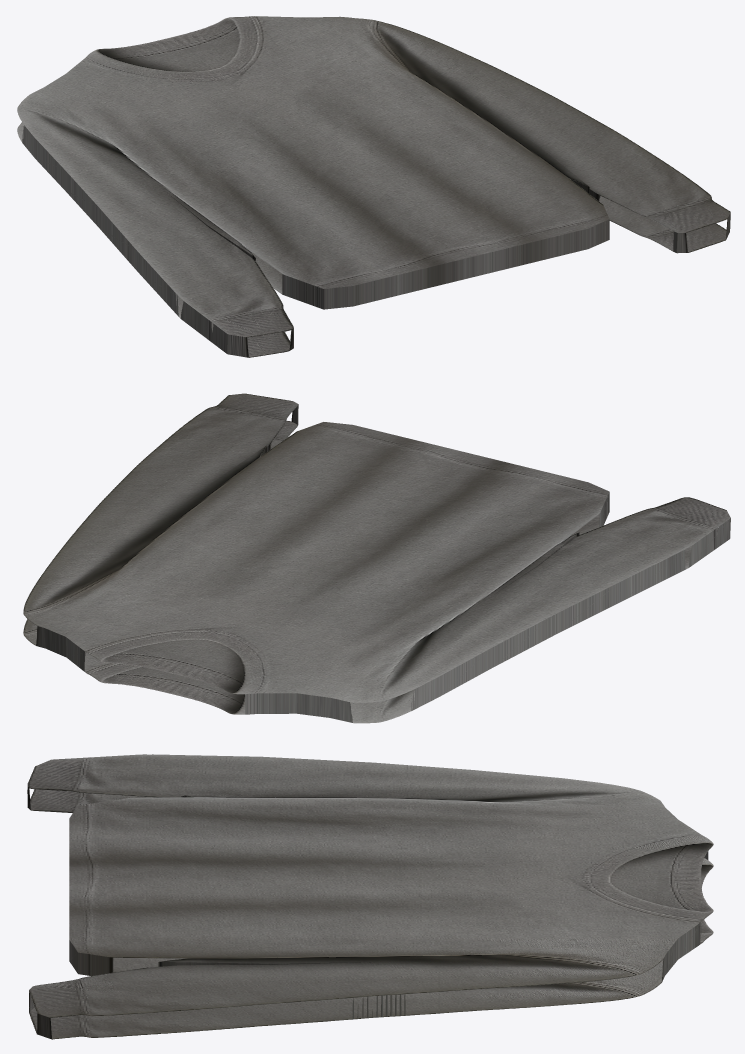
3 views of the same model, one above another, from view 1: azimuth 30°, elevation 25°; view 2: azimuth 150°, elevation 25°; view 3: azimuth 270°, elevation 25° (orthographic). The views are drawn at different scales.
Parts seen in each view (by area): view 1: 平面; view 2: 平面; view 3: 平面.
Boxes of the visible parts, bbox=[...] form: 平面: bbox=[17, 16, 730, 357]; 平面: bbox=[23, 393, 730, 723]; 平面: bbox=[27, 754, 713, 1039].
Bounding box in the file's own units: 33.06 × 1.98 × 38.33.
Materials: 1 (1 with a texture image).
